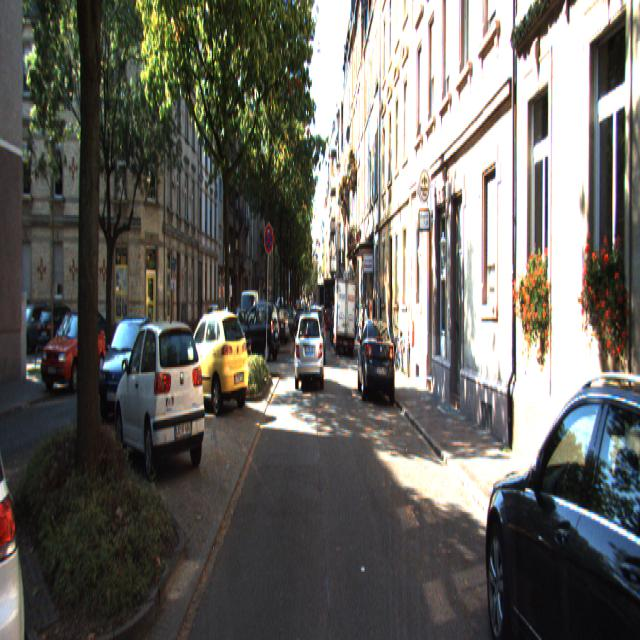Car: (482, 336, 640, 638), (110, 322, 209, 490), (178, 307, 252, 420), (91, 317, 158, 420), (42, 312, 108, 388), (356, 312, 397, 403), (234, 299, 280, 361), (294, 311, 324, 390), (334, 274, 356, 349), (306, 303, 326, 363)
